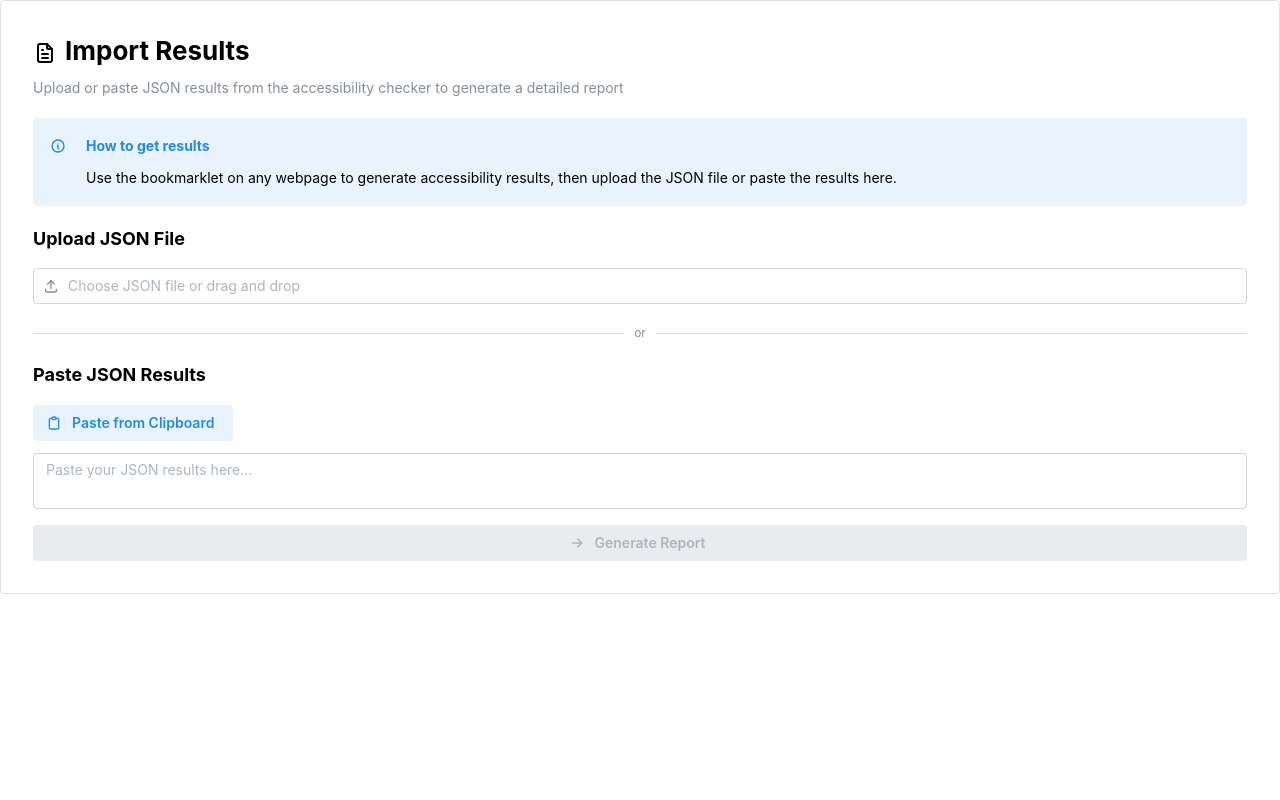
ImportResults component › handles clipboard read error
Click the button "Paste from Clipboard" at (133, 422), box [33,404,233,440]
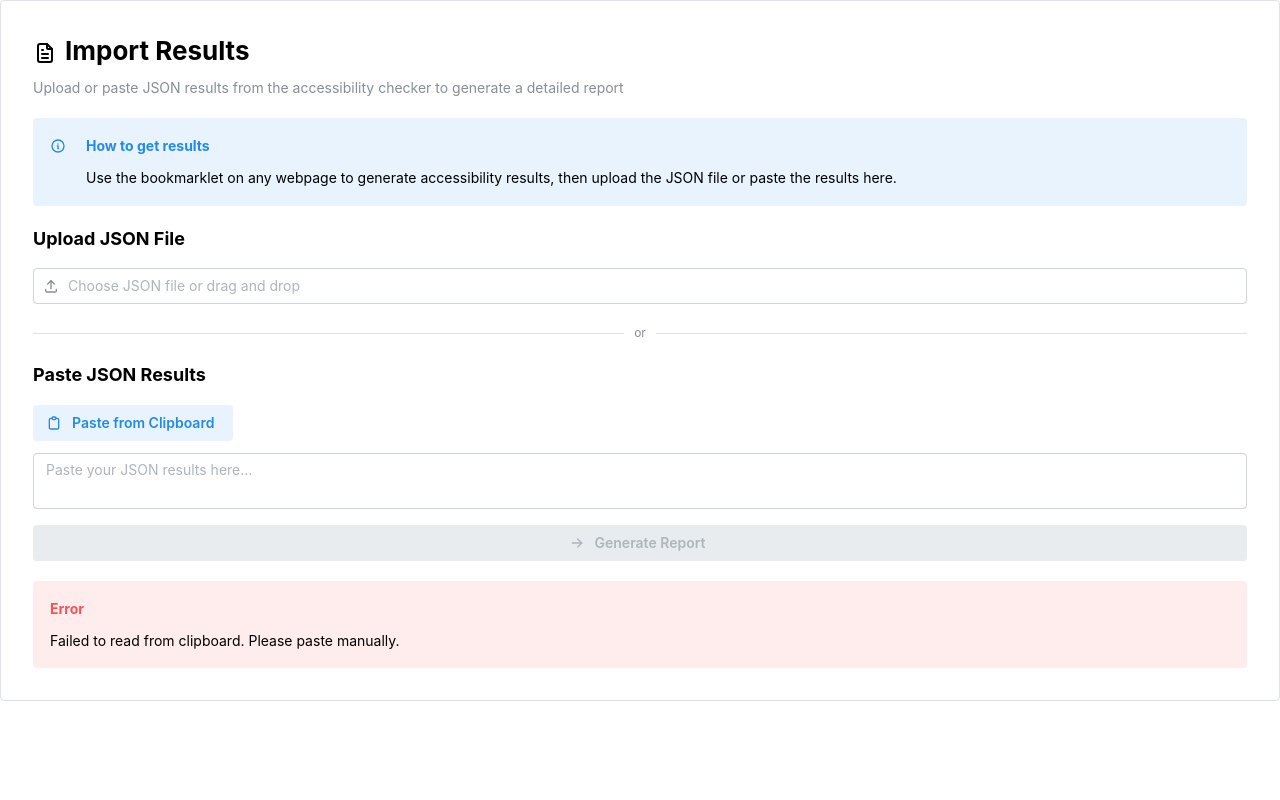
Check: the text "Failed to read from clipboard. Please paste manually." is shown, box [50,632,400,649]
